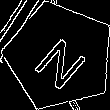N_NE: (27, 24, 92, 89)
